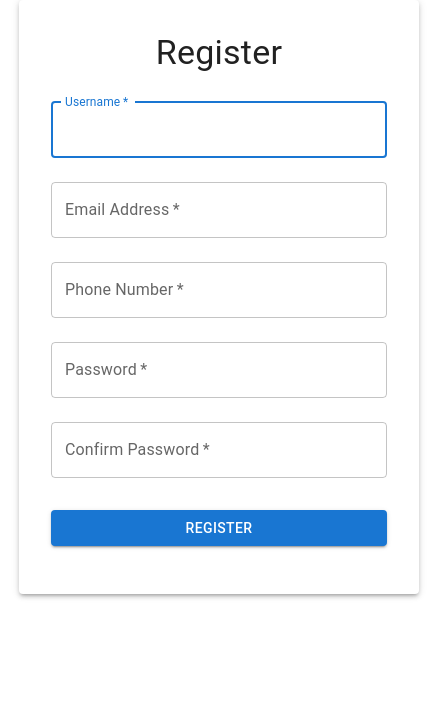
Scenario: RegisterForm › validates email format
Type "invalid-email" into the field labelled "Email Address *".
click(219, 210); type("invalid-email")  # box [51,182,387,238]
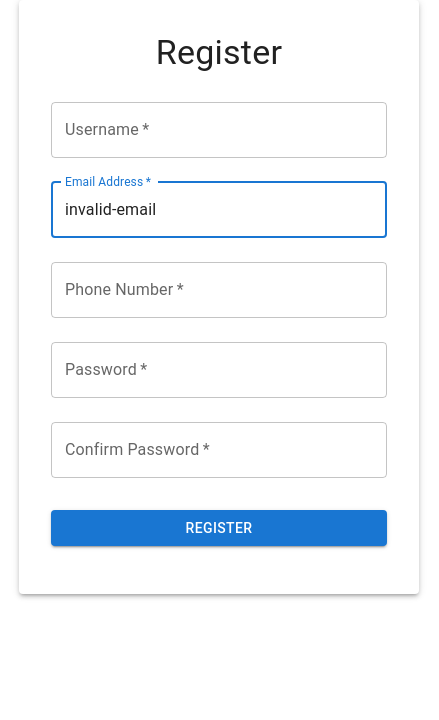
Click the button "Register".
click(219, 528)  # box [51,510,387,546]
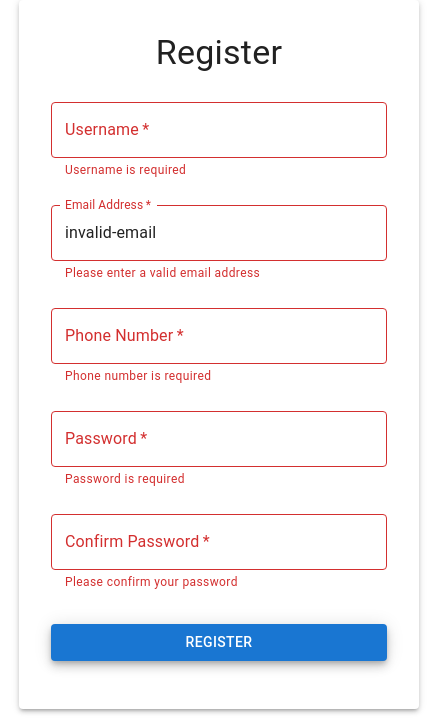
Result: the text "Please enter a valid email address" is shown at [65,266,260,280]
